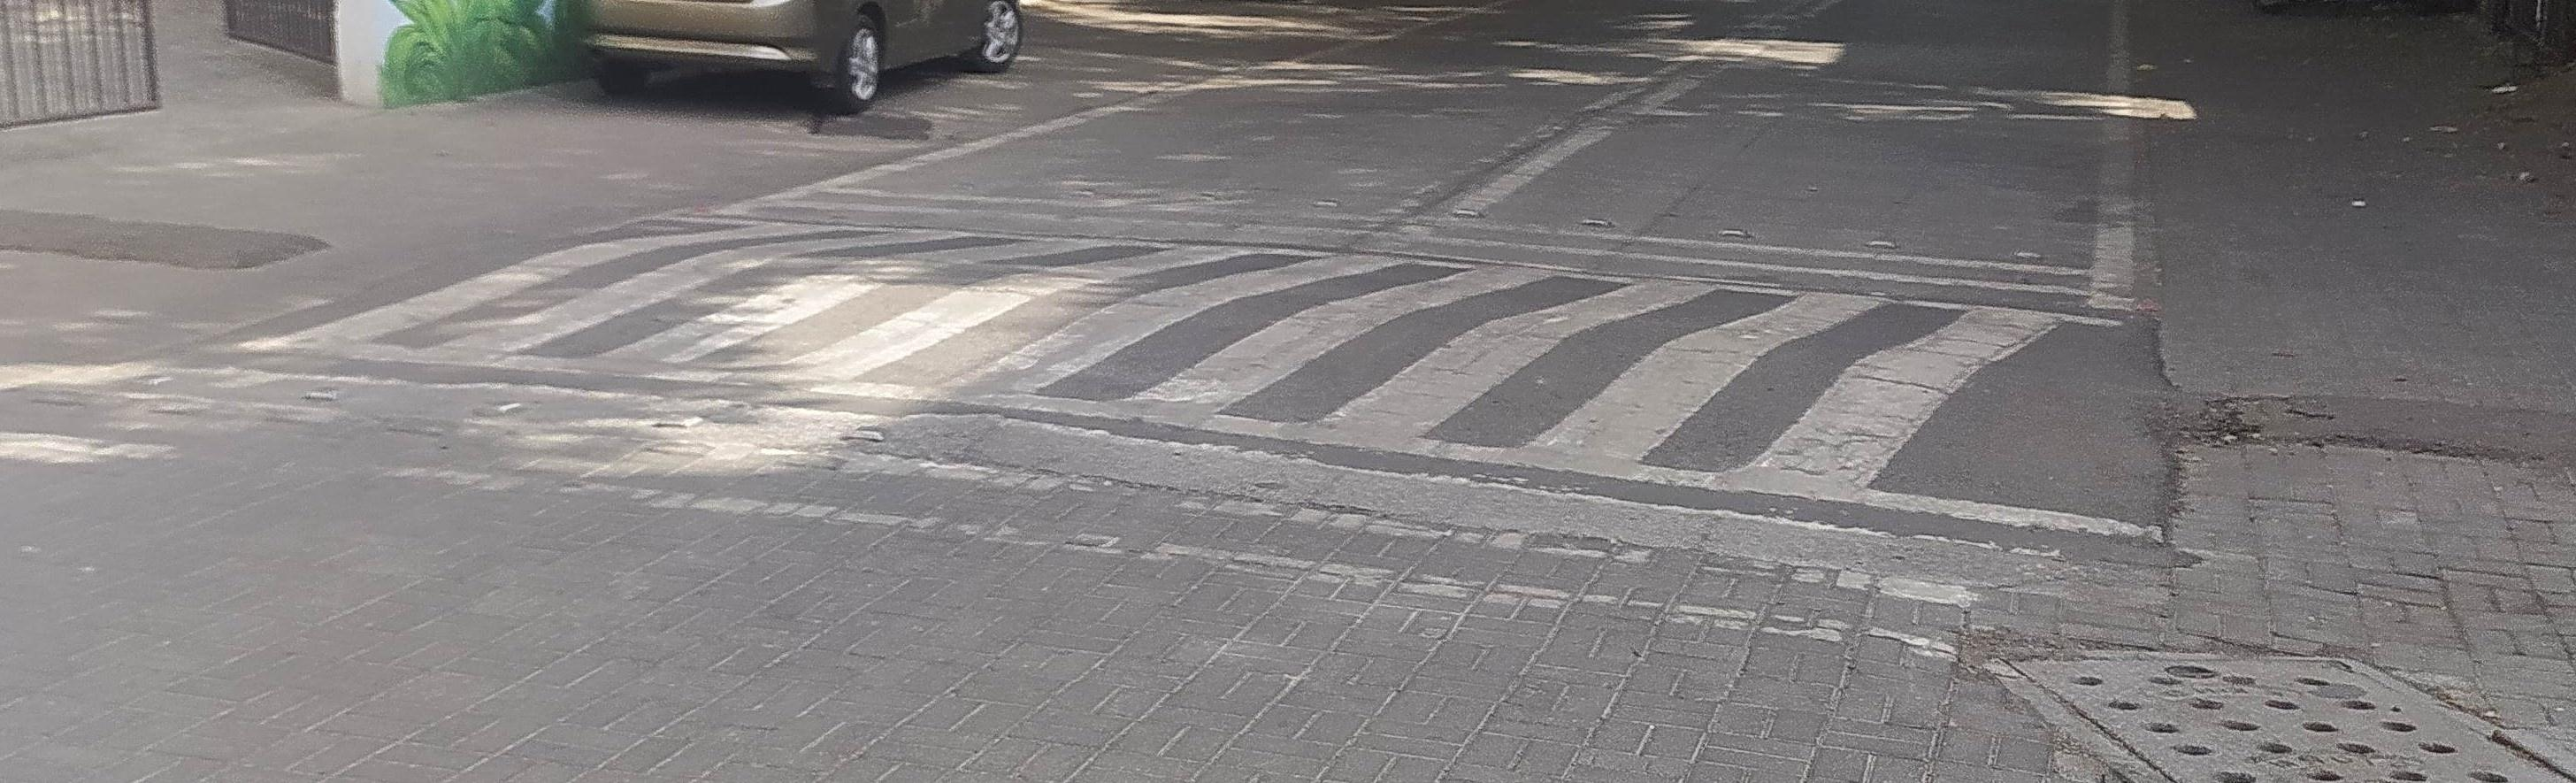speed-bump: (234, 210, 2187, 560)
